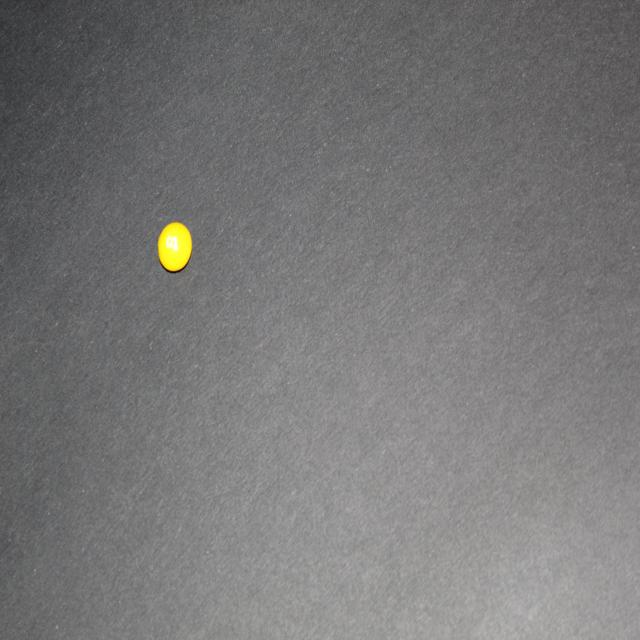smartie: (157, 222, 192, 273)
